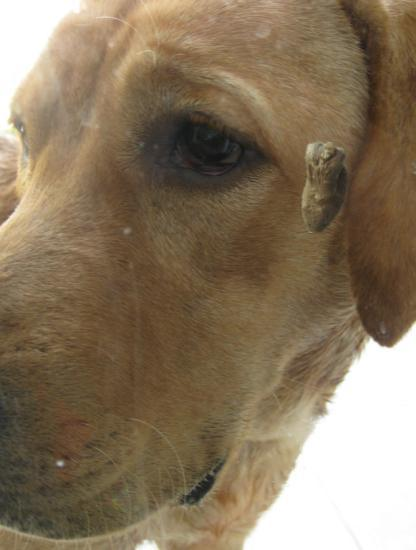Ginger: (276, 141, 370, 235)
